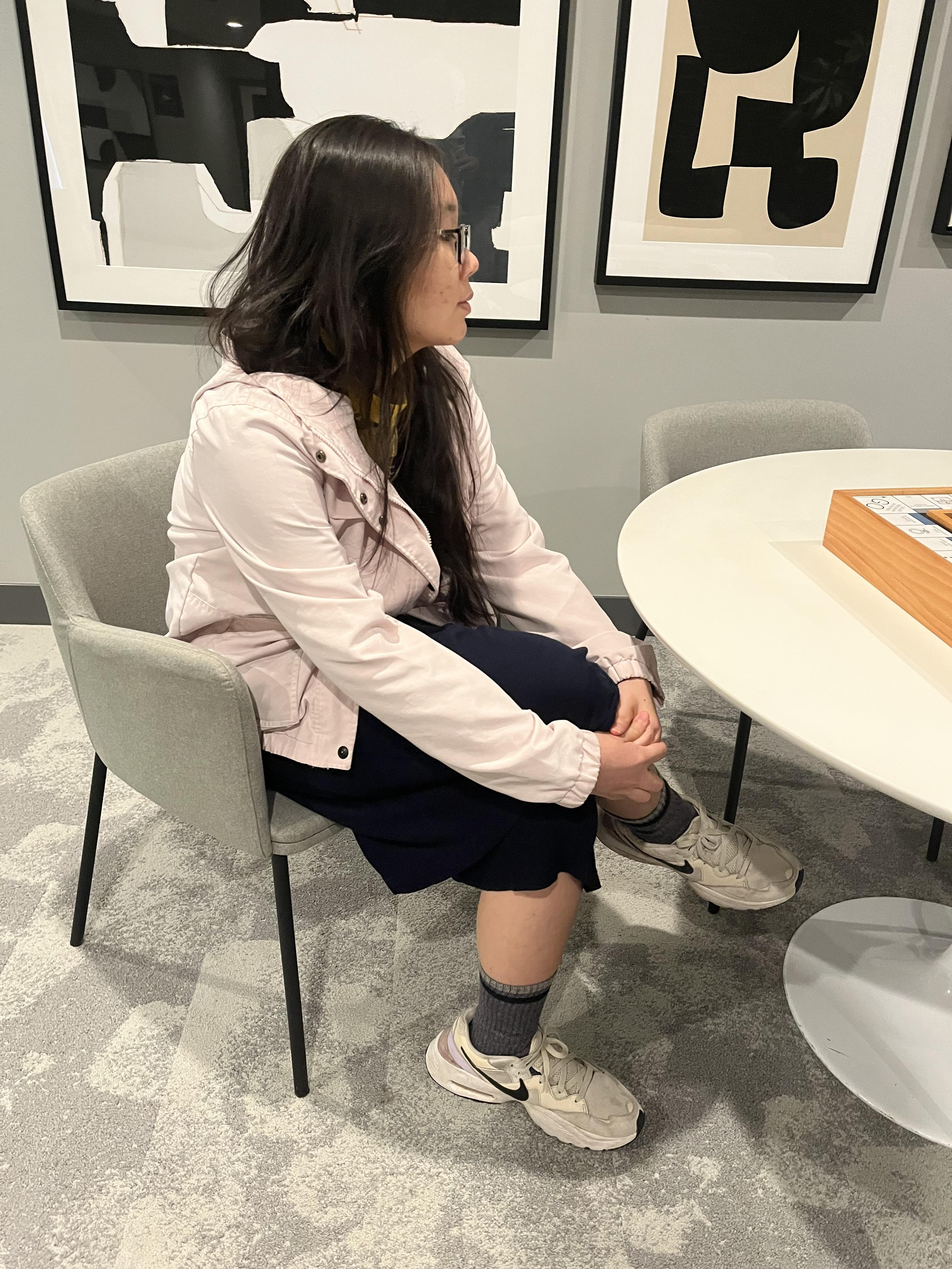BadPosture: (162, 112, 805, 1145)
